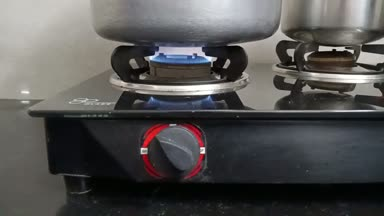flame_gas_on: (97, 36, 256, 182)
